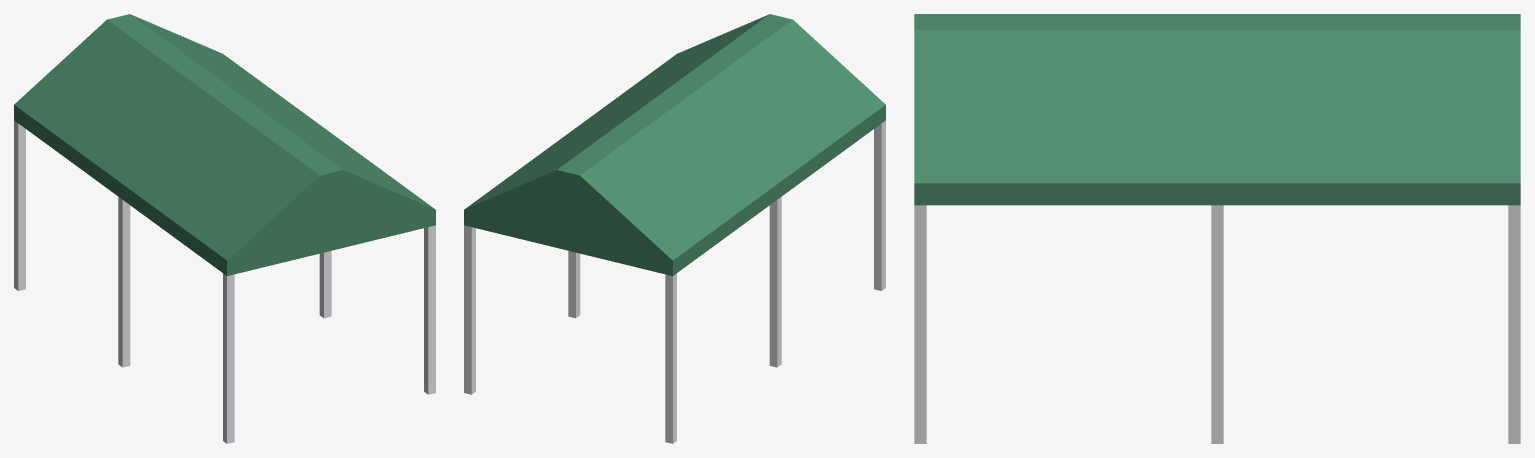
Rendered from tentRoof.glb.
3 renders of one model, left to right at view 1: azimuth 30°, elevation 25°; view 2: azimuth 150°, elevation 25°; view 3: azimuth 270°, elevation 25°, orthographic. The views are drawn at different scales.
Parts seen in each view (by area): view 1: tentRoof(Clone); view 2: tentRoof(Clone); view 3: tentRoof(Clone).
Part boxes in pixels (box(x1,y1,x2,y2)): tentRoof(Clone): box(14, 14, 435, 443); tentRoof(Clone): box(464, 14, 885, 443); tentRoof(Clone): box(914, 14, 1520, 443).
Bounding box in the file's own units: 0.56 × 0.63 × 0.99.
